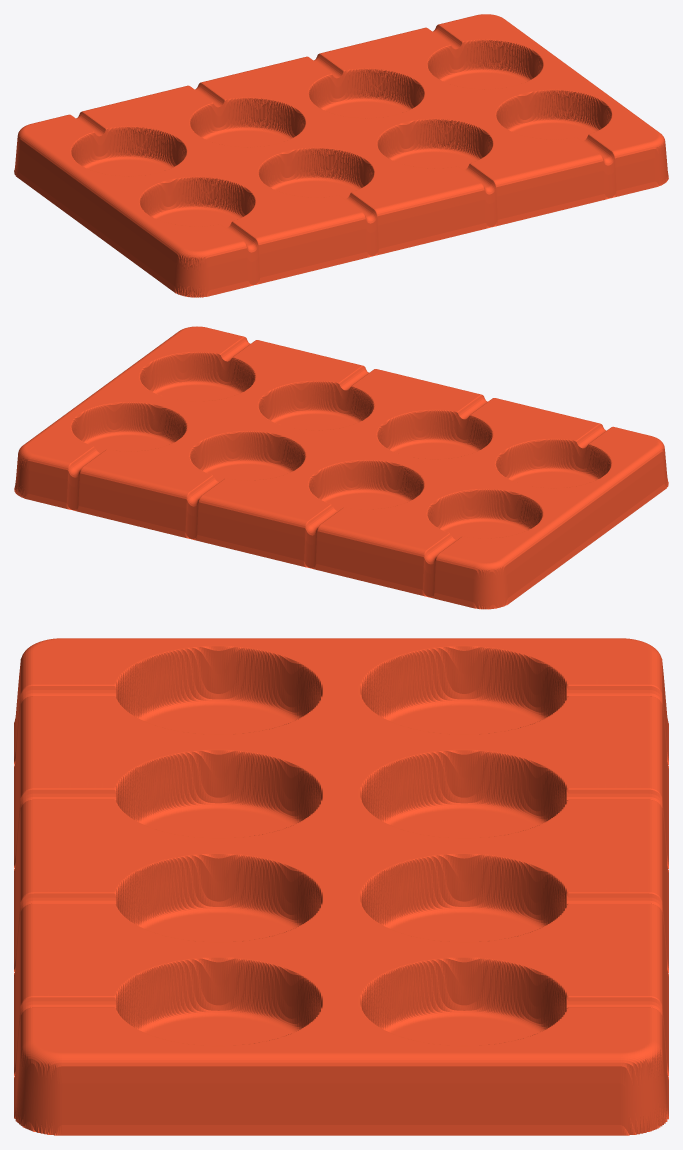
The model's file is mold.glb.
The picture shows the model from 3 angles, top to bottom: view 1: azimuth 30°, elevation 25°; view 2: azimuth 150°, elevation 25°; view 3: azimuth 270°, elevation 25°; orthographic projection. The views are drawn at different scales.
Visible parts, largest first — view 1: geometry_0; view 2: geometry_0; view 3: geometry_0.
Part boxes in pixels (bbox=[...]): geometry_0: bbox=[14, 14, 668, 297]; geometry_0: bbox=[14, 326, 668, 609]; geometry_0: bbox=[14, 638, 668, 1135].
Bounding box in the file's own units: 0.1907 × 0.0155 × 0.1229.
